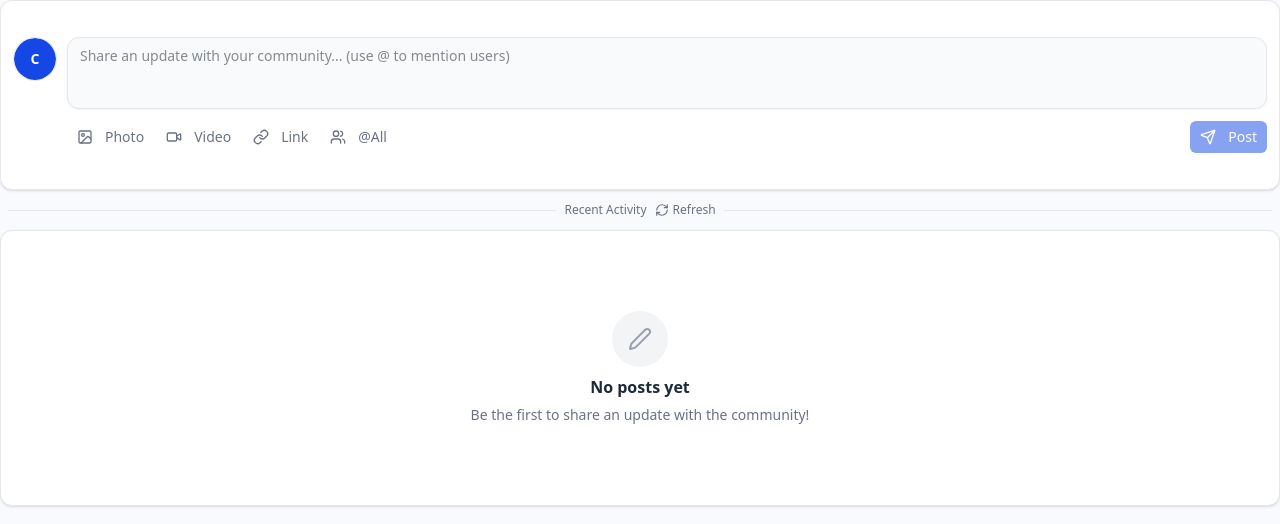
Test: FeedClient › create post › enables Post button when content is typed
The image size is (1280, 524).
Step 1. Type "New post" into the text box with placeholder "Share an update" → (667, 73), box [67,37,1267,109]
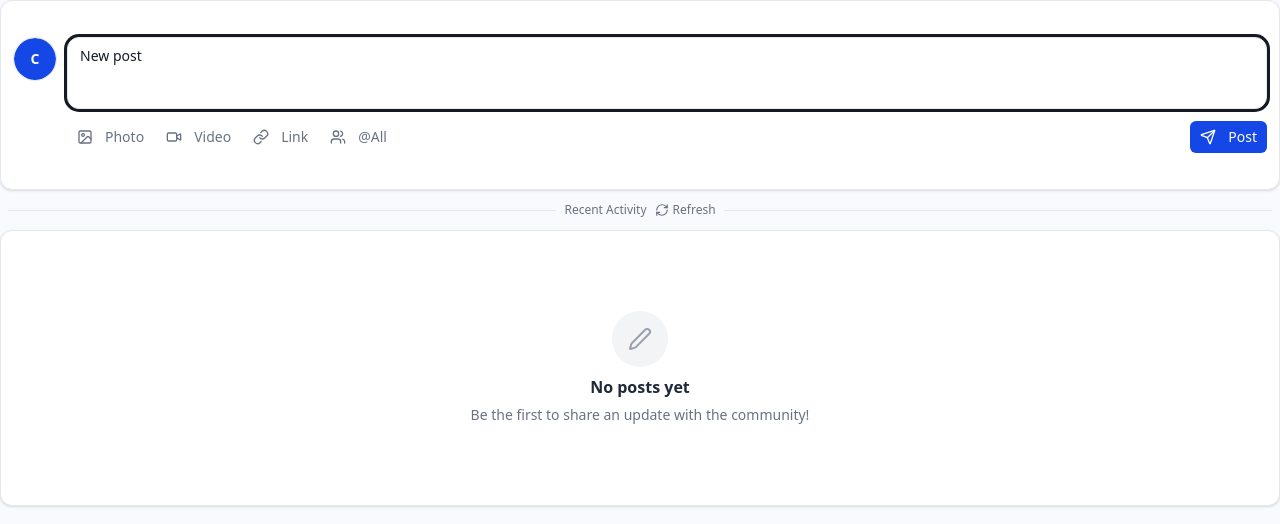
Now the button "Post" is enabled, box [1190,121,1267,153]
